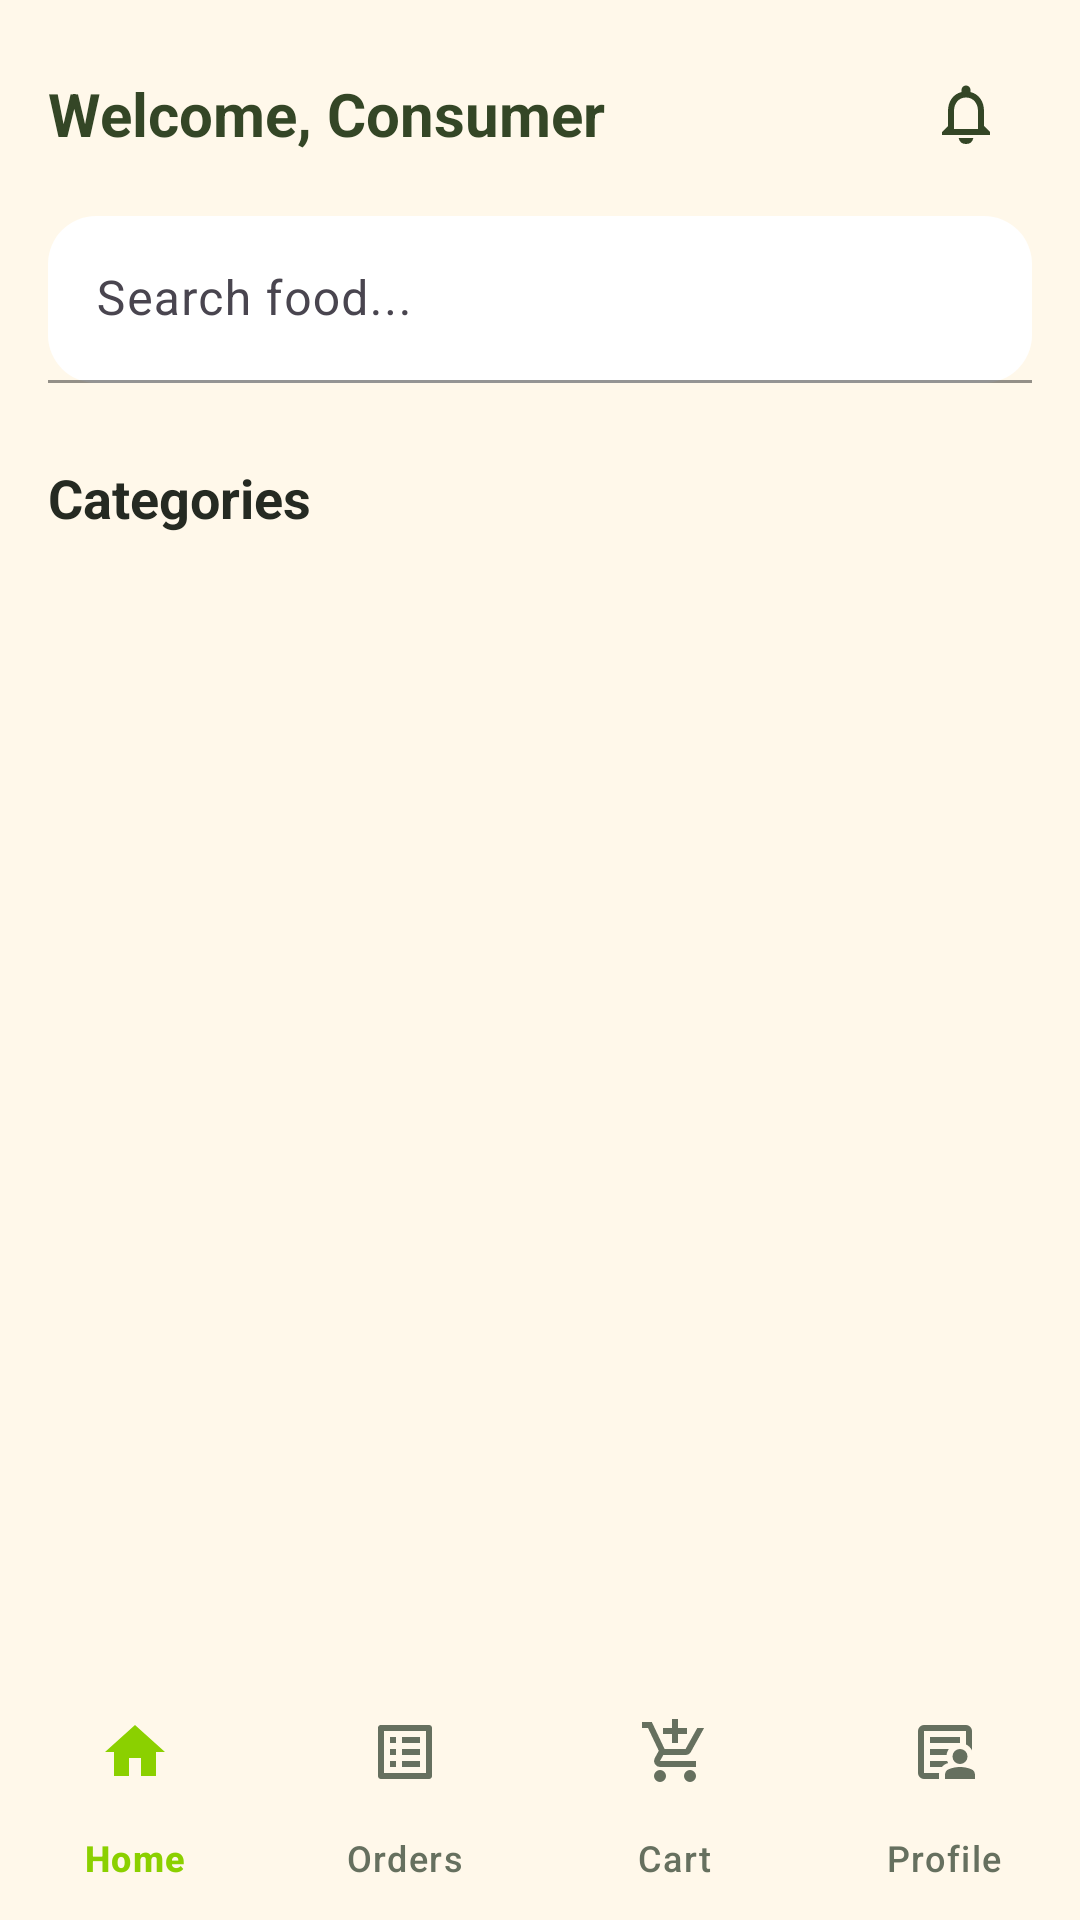

Icon click points for this 1080×1920 phone screenshot, format [x,y]:
Notifications: [966,114]
